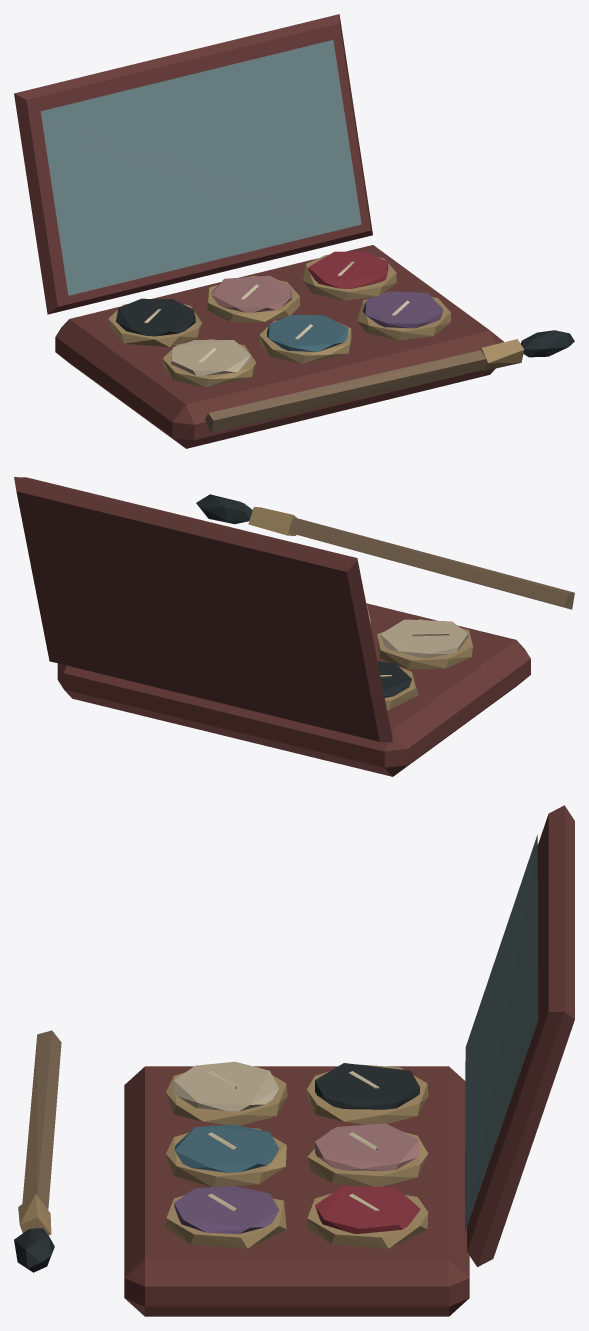
Rendered from makeup_palette.glb.
The picture shows the model from 3 angles, top to bottom: view 1: azimuth 30°, elevation 25°; view 2: azimuth 150°, elevation 25°; view 3: azimuth 270°, elevation 25°; orthographic projection. The views are drawn at different scales.
Visible parts, largest first — view 1: makeup_palette; view 2: makeup_palette; view 3: makeup_palette.
Part boxes in pixels (x1,y1,x2,y2): makeup_palette: (14,14,574,448); makeup_palette: (14,477,574,776); makeup_palette: (14,805,574,1316).
Bounding box in the file's own units: 0.3886 × 0.249 × 0.4059.
